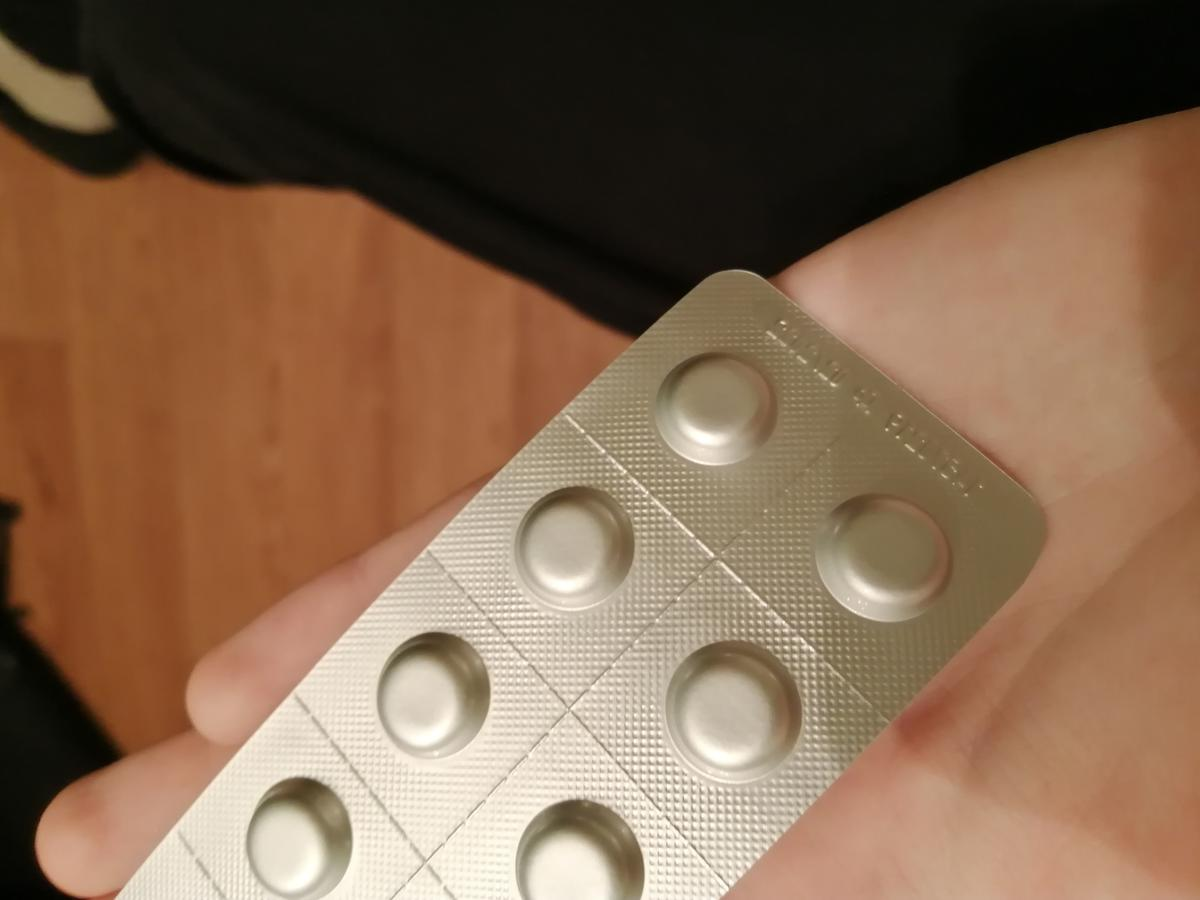tablet: (837, 496, 945, 600), (242, 787, 344, 896), (372, 645, 470, 757), (681, 664, 776, 775), (518, 499, 618, 601), (513, 819, 634, 900), (666, 357, 766, 453)
